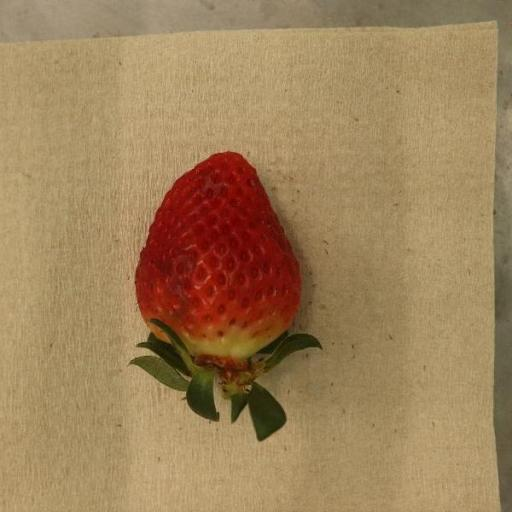Strawberry: (131, 152, 323, 443)
